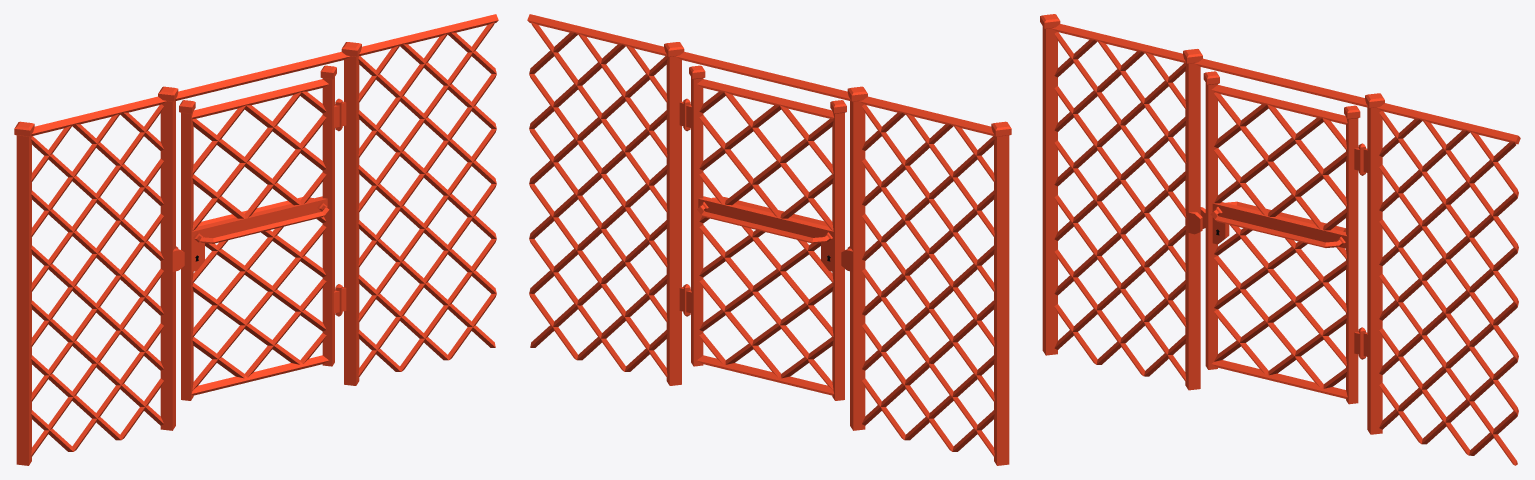
Rendered from SM_Fence_Chainlink_Door_Low_City.fbx.
3 views of the same model, side by side, from view 1: azimuth 30°, elevation 25°; view 2: azimuth 150°, elevation 25°; view 3: azimuth 330°, elevation 25° (orthographic).
Visible parts, largest first — view 1: SM_Fence_Chainlink_Door_Low_City_Base, SM_Fence_Chainlink_Door_Low_City_Door; view 2: SM_Fence_Chainlink_Door_Low_City_Base, SM_Fence_Chainlink_Door_Low_City_Door; view 3: SM_Fence_Chainlink_Door_Low_City_Base, SM_Fence_Chainlink_Door_Low_City_Door.
Part boxes in pixels (x1=…): SM_Fence_Chainlink_Door_Low_City_Base: x1=14, y1=14, x2=498, y2=465; SM_Fence_Chainlink_Door_Low_City_Door: x1=179, y1=65, x2=342, y2=400; SM_Fence_Chainlink_Door_Low_City_Base: x1=527, y1=14, x2=1011, y2=465; SM_Fence_Chainlink_Door_Low_City_Door: x1=683, y1=65, x2=846, y2=400; SM_Fence_Chainlink_Door_Low_City_Base: x1=1040, y1=14, x2=1520, y2=465; SM_Fence_Chainlink_Door_Low_City_Door: x1=1203, y1=71, x2=1365, y2=404.
Bounding box in the file's own units: 3.06 × 2.05 × 0.2534.
